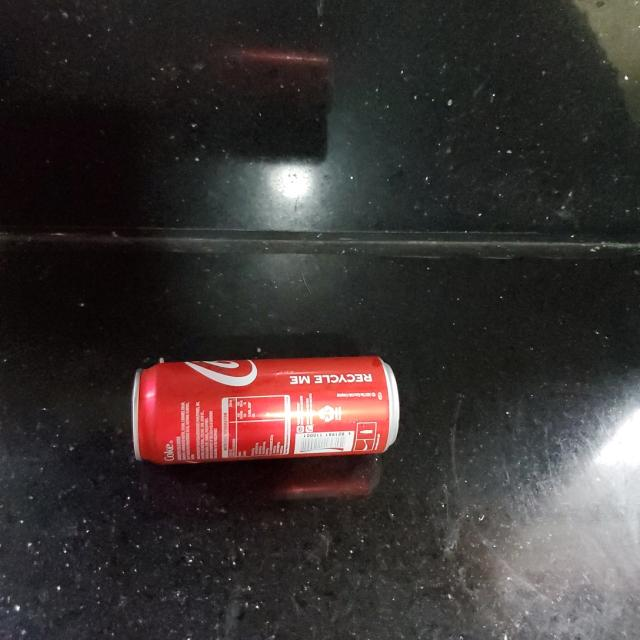coke: (130, 356, 401, 462)
